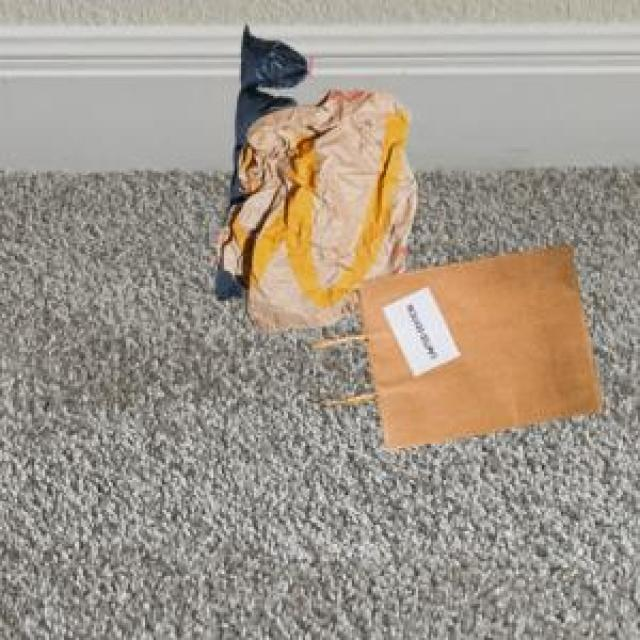miscellaneous trash: (213, 21, 305, 297)
paper: (309, 241, 600, 446), (213, 85, 412, 329)
